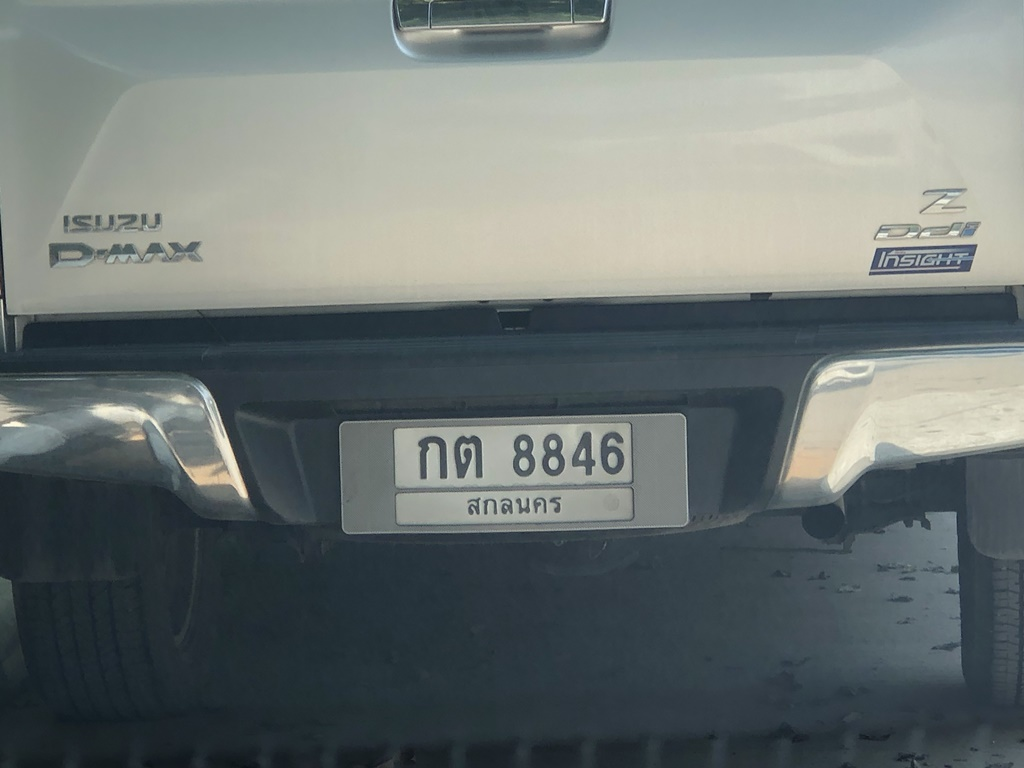plate: (328, 414, 704, 550)
